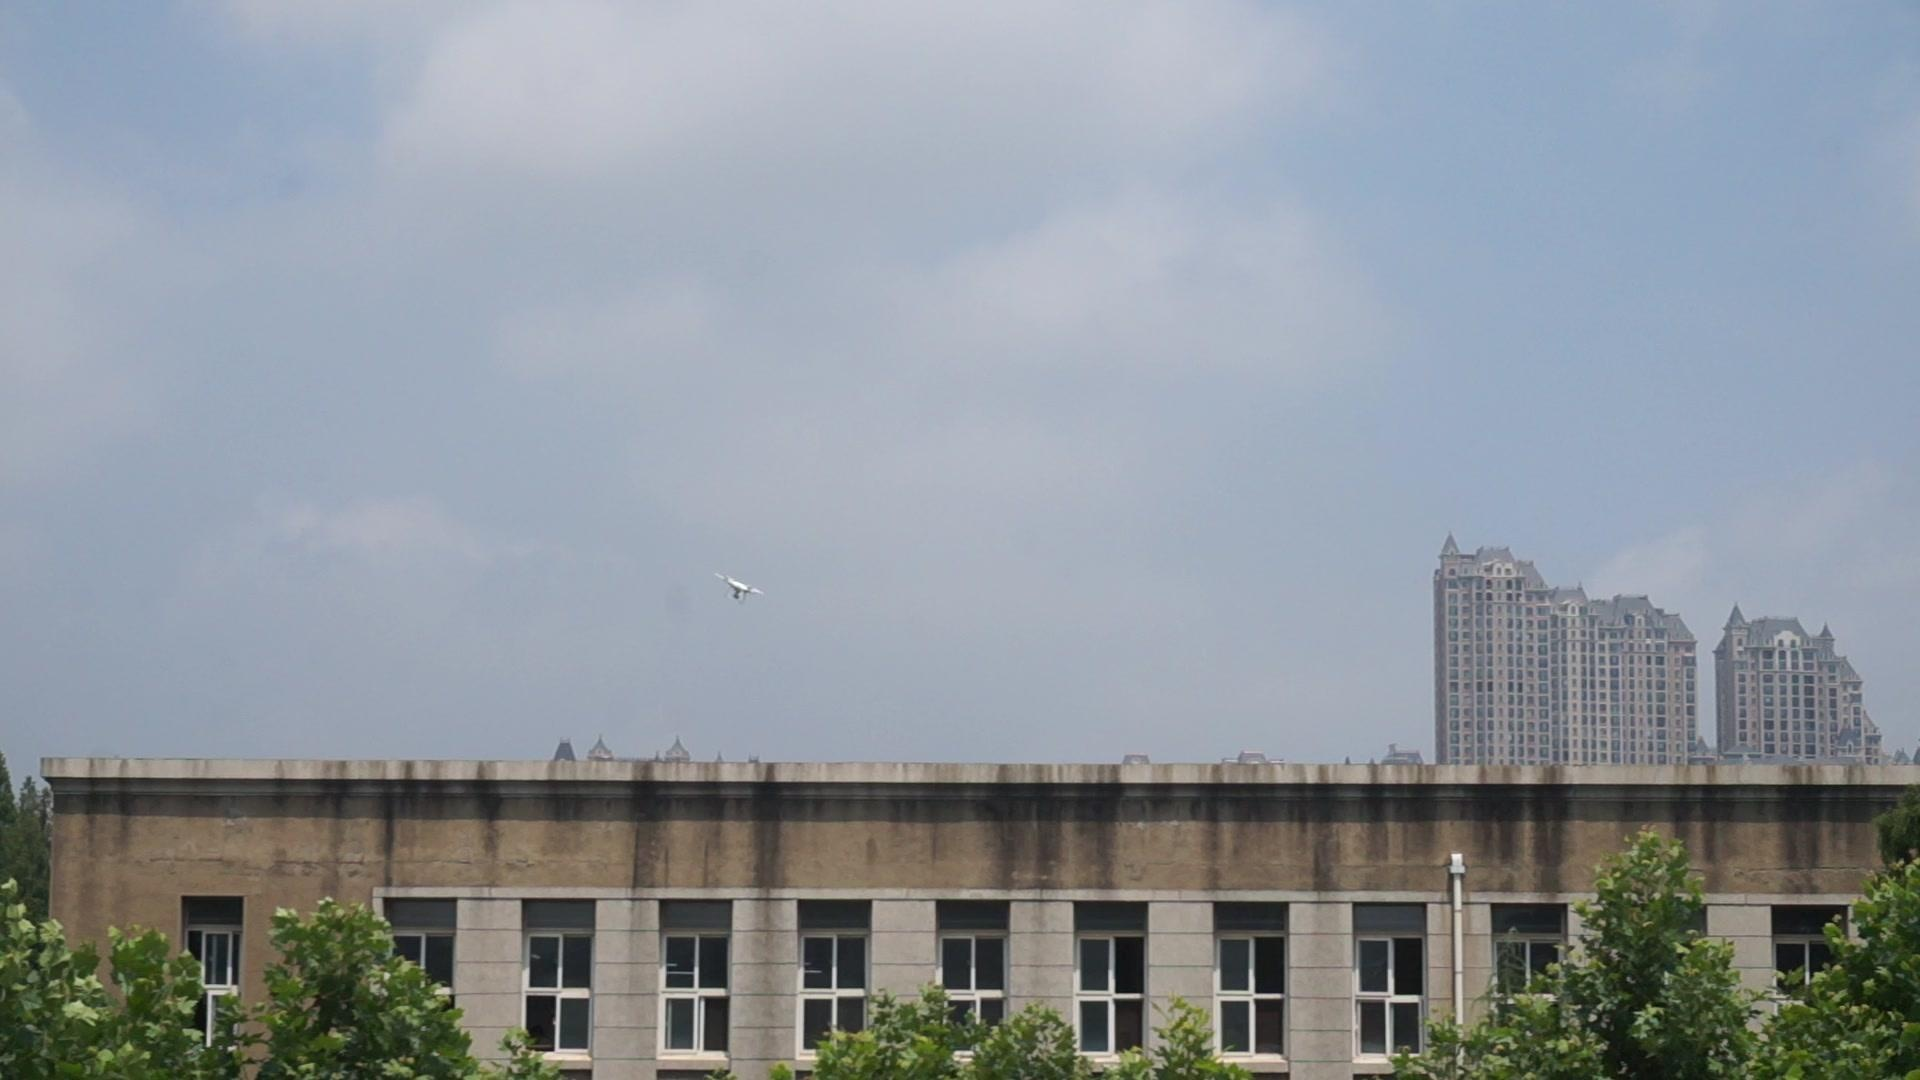UAV: (715, 572, 765, 603)
